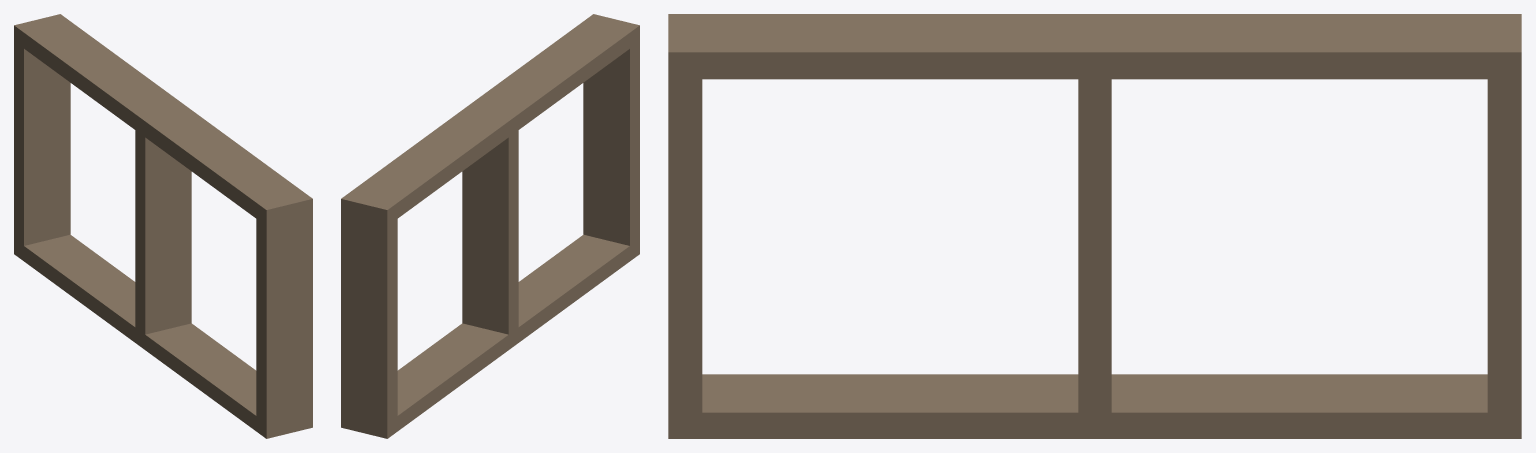
The model's file is Window.fbx.
3 renders of one model, left to right at view 1: azimuth 30°, elevation 25°; view 2: azimuth 150°, elevation 25°; view 3: azimuth 270°, elevation 25°, orthographic. The views are drawn at different scales.
Parts seen in each view (by area): view 1: polySurface766; view 2: polySurface766; view 3: polySurface766.
Part boxes in pixels (<box>): polySurface766: <box>14,14,312,438</box>; polySurface766: <box>341,14,639,438</box>; polySurface766: <box>668,14,1521,438</box>.
Bounding box in the file's own units: 63.75 × 300 × 600.
